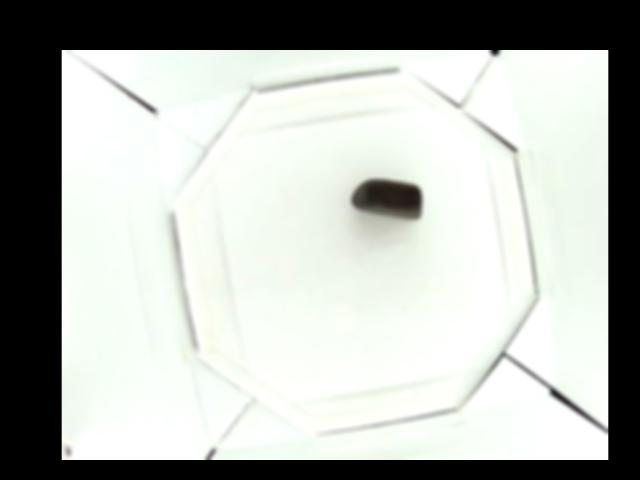Pebble: (351, 178, 425, 217)
